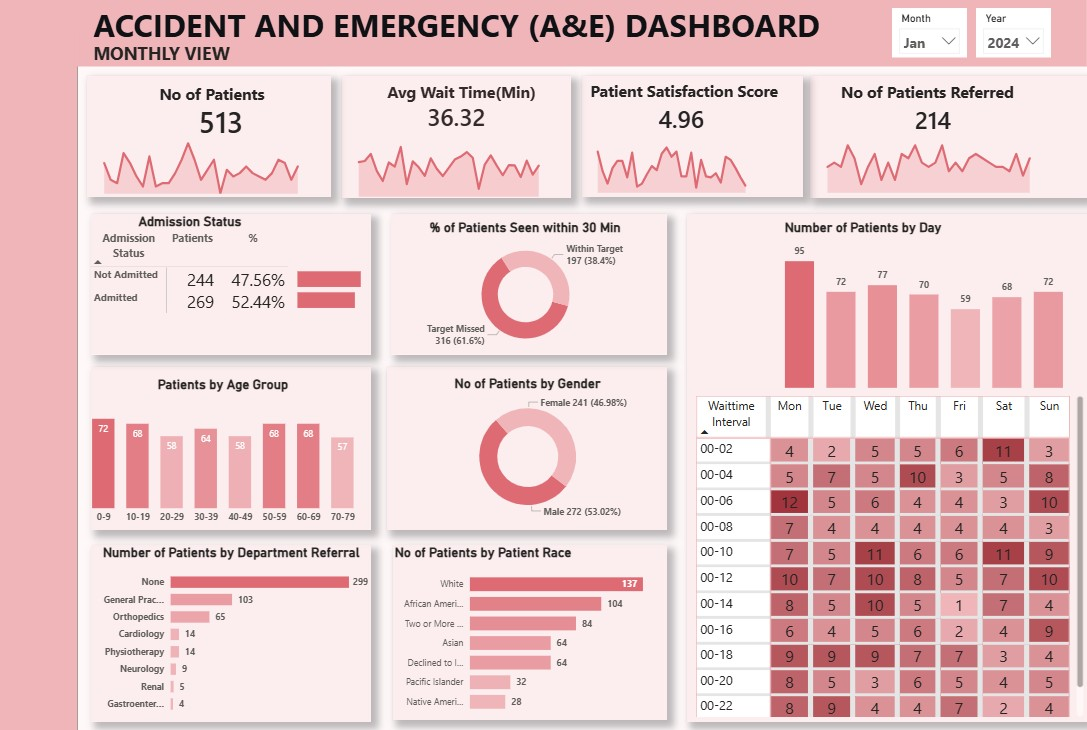

This screenshot's page, from the dashboard's own definition file:
{"tool":"powerbi","page":{"name":"Monthly View ","canvas":[1500,1000],"ordinal":0},"visuals":[{"type":"shape","box":[124.5,104.1,332.7,165.3],"z":0},{"type":"shape","box":[940.8,291.8,544.9,691.8],"z":1000},{"type":"columnChart","fields":{"Category":["Date Table.Day"],"Y":["Hospital ER_Data.Number of Patients"]},"box":[1069.4,300,389.8,234.7],"z":2000},{"type":"pivotTable","fields":{"Rows":["Hospital ER_Data.Waittime Interval"],"Columns":["Date Table.Day"],"Values":["Hospital ER_Data.Number of Patients"]},"box":[949,534.7,536.7,446.9],"z":3000},{"type":"shape","box":[130.6,291.8,381.6,191.8],"z":4000},{"type":"shape","box":[130.6,742.9,381.6,240.8],"z":5000},{"type":"shape","box":[532.7,500,381.6,222.4],"z":6000},{"type":"donutChart","title":"No of Patients by Gender ","fields":{"Y":["Hospital ER_Data.Number of Patients"],"Category":["Hospital ER_Data.Patient Gender"]},"box":[534.7,512.2,379.6,200],"z":7000},{"type":"shape","box":[798,104.1,302,165.3],"z":8000},{"type":"shape","box":[1108.2,104.1,377.6,167.3],"z":9000},{"type":"shape","box":[130.6,500,381.6,222.4],"z":10000},{"type":"shape","box":[0,0,112.2,1000],"z":11000},{"type":"shape","box":[108.2,0,1377.6,91.8],"z":12000},{"type":"textbox","box":[128.6,0,1059.2,67.3],"z":13000},{"type":"textbox","box":[128.6,51,236.7,53.1],"z":14000},{"type":"cardVisual","fields":{"Data":["Hospital ER_Data.Number of Patients"]},"box":[180.4,123.5,256.9,80.4],"z":15000},{"type":"slicer","fields":{"Values":["Date Table.Year"]},"box":[1334.7,12.2,102,67.3],"z":16000},{"type":"slicer","fields":{"Values":["Date Table.Month"]},"box":[1220.4,12.2,102,67.3],"z":17000},{"type":"textbox","box":[218.4,108.2,171.4,55.1],"z":18000},{"type":"areaChart","fields":{"Category":["Date Table.Date.Variation.Date Hierarchy.Day"],"Y":["Hospital ER_Data.Number of Patients"]},"box":[123.5,182.4,337.3,88.2],"z":19000},{"type":"textbox","box":[1100,106.1,336.7,55.1],"z":20000},{"type":"textbox","box":[798.3,104.4,285.2,59.6],"z":21000},{"type":"textbox","box":[486.3,105.9,298,76.5],"z":22000},{"type":"cardVisual","fields":{"Data":["Avg(Hospital ER_Data.Patient Waittime)"]},"box":[558.8,119.6,139.2,76.5],"z":23000},{"type":"cardVisual","fields":{"Data":["Avg(Hospital ER_Data.Patient Satisfaction Score)"]},"box":[874,122.9,181.2,77.6],"z":24000},{"type":"cardVisual","fields":{"Data":["Hospital ER_Data.No of Patients Referred"]},"box":[1222.4,122.4,128.6,79.6],"z":25000},{"type":"areaChart","fields":{"Category":["Date Table.Date.Variation.Date Hierarchy.Day"],"Y":["Avg(Hospital ER_Data.Patient Waittime)"]},"box":[470.6,182.4,315.7,92.2],"z":26000},{"type":"areaChart","fields":{"Category":["Date Table.Date.Variation.Date Hierarchy.Day"],"Y":["Sum(Hospital ER_Data.Patient Satisfaction Score)"]},"box":[798,165.3,298,104.1],"z":27000},{"type":"areaChart","fields":{"Category":["Date Table.Date.Variation.Date Hierarchy.Day"],"Y":["Hospital ER_Data.No of Patients Referred"]},"box":[1108.2,161.2,351,108.2],"z":28000},{"type":"pivotTable","title":"Admission Status ","fields":{"Rows":["Hospital ER_Data.Admission Status"],"Values":["Hospital ER_Data.Number of Patients1","Hospital ER_Data.Number of Patients"]},"box":[124.5,291.8,281.6,191.8],"z":29000},{"type":"barChart","fields":{"Category":["Hospital ER_Data.Admission Status"],"Y":["Hospital ER_Data.Number of Patients"]},"box":[406.1,342.9,106.1,98],"z":30000},{"type":"clusteredColumnChart","title":"Patients by Age Group","fields":{"Category":["Hospital ER_Data.Age Group"],"Y":["Hospital ER_Data.Number of Patients"]},"box":[108.2,514.3,404.1,208.2],"z":31000},{"type":"clusteredBarChart","fields":{"Category":["Hospital ER_Data.Department Referral"],"Y":["Hospital ER_Data.Number of Patients"]},"box":[130.6,742.9,381.6,238.8],"z":32000},{"type":"shape","box":[538.8,291.8,375.5,191.8],"z":33000},{"type":"shape","box":[471.4,104.1,312.2,167.3],"z":34000},{"type":"shape","box":[540.8,742.9,373.5,238.8],"z":35000},{"type":"donutChart","title":"% of Patients Seen within 30 Min","fields":{"Y":["Hospital ER_Data.Number of Patients"],"Category":["Hospital ER_Data.Waittime Status"]},"box":[538.8,300,365.3,183.7],"z":36000},{"type":"barChart","title":"No of Patients by Patient Race","fields":{"Y":["Hospital ER_Data.Number of Patients"],"Category":["Hospital ER_Data.Patient Race"]},"box":[538.8,742.9,375.5,238.8],"z":37000}]}

Visuals, with their boxes in screenshot pixels (x1, y1, x2, y2), scaled from the page's 1500x1000 canvas onto the 1087x730 screenshot:
shape: [left=90, top=76, right=331, bottom=197]
shape: [left=682, top=213, right=1077, bottom=718]
columnChart - Date Table.Day x Hospital ER_Data.Number of Patients: [left=775, top=219, right=1057, bottom=390]
pivotTable - Hospital ER_Data.Waittime Interval x Date Table.Day: [left=688, top=390, right=1077, bottom=717]
shape: [left=95, top=213, right=371, bottom=353]
shape: [left=95, top=542, right=371, bottom=718]
shape: [left=386, top=365, right=663, bottom=527]
"No of Patients by Gender " donutChart: [left=387, top=374, right=663, bottom=520]
shape: [left=578, top=76, right=797, bottom=197]
shape: [left=803, top=76, right=1077, bottom=198]
shape: [left=95, top=365, right=371, bottom=527]
shape: [left=0, top=0, right=81, bottom=729]
shape: [left=78, top=0, right=1077, bottom=67]
textbox: [left=93, top=0, right=861, bottom=49]
textbox: [left=93, top=37, right=265, bottom=76]
cardVisual - Hospital ER_Data.Number of Patients: [left=131, top=90, right=317, bottom=149]
slicer - Date Table.Year: [left=967, top=9, right=1041, bottom=58]
slicer - Date Table.Month: [left=884, top=9, right=958, bottom=58]
textbox: [left=158, top=79, right=282, bottom=119]
areaChart - Date Table.Date.Variation.Date Hierarchy.Day x Hospital ER_Data.Number of Patients: [left=89, top=133, right=334, bottom=198]
textbox: [left=797, top=77, right=1041, bottom=118]
textbox: [left=579, top=76, right=785, bottom=120]
textbox: [left=352, top=77, right=568, bottom=133]
cardVisual - Avg(Hospital ER_Data.Patient Waittime): [left=405, top=87, right=506, bottom=143]
cardVisual - Avg(Hospital ER_Data.Patient Satisfaction Score): [left=633, top=90, right=765, bottom=146]
cardVisual - Hospital ER_Data.No of Patients Referred: [left=886, top=89, right=979, bottom=147]
areaChart - Date Table.Date.Variation.Date Hierarchy.Day x Avg(Hospital ER_Data.Patient Waittime): [left=341, top=133, right=570, bottom=200]
areaChart - Date Table.Date.Variation.Date Hierarchy.Day x Sum(Hospital ER_Data.Patient Satisfaction Score): [left=578, top=121, right=794, bottom=197]
areaChart - Date Table.Date.Variation.Date Hierarchy.Day x Hospital ER_Data.No of Patients Referred: [left=803, top=118, right=1057, bottom=197]
"Admission Status " pivotTable: [left=90, top=213, right=294, bottom=353]
barChart - Hospital ER_Data.Admission Status x Hospital ER_Data.Number of Patients: [left=294, top=250, right=371, bottom=322]
"Patients by Age Group" clusteredColumnChart: [left=78, top=375, right=371, bottom=527]
clusteredBarChart - Hospital ER_Data.Department Referral x Hospital ER_Data.Number of Patients: [left=95, top=542, right=371, bottom=717]
shape: [left=390, top=213, right=663, bottom=353]
shape: [left=342, top=76, right=568, bottom=198]
shape: [left=392, top=542, right=663, bottom=717]
"% of Patients Seen within 30 Min" donutChart: [left=390, top=219, right=655, bottom=353]
"No of Patients by Patient Race" barChart: [left=390, top=542, right=663, bottom=717]
